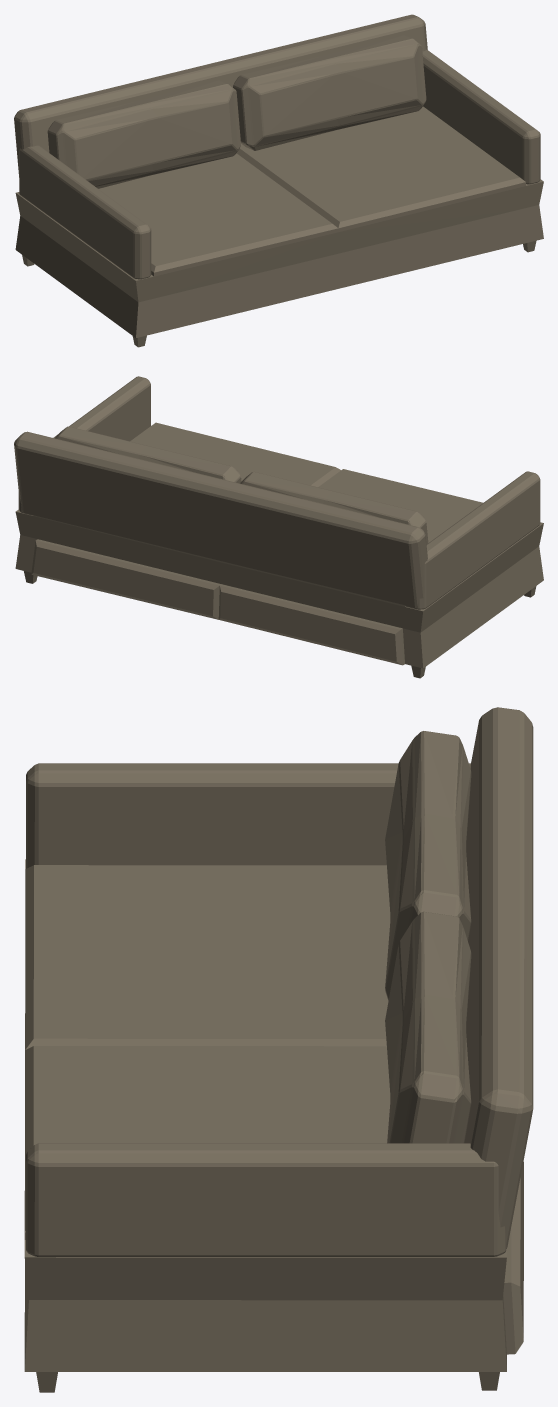
File: Couch.fbx
3 renders of one model, top to bottom at view 1: azimuth 30°, elevation 25°; view 2: azimuth 150°, elevation 25°; view 3: azimuth 270°, elevation 25°, orthographic. The views are drawn at different scales.
Parts seen in each view (by area): view 1: pasted__pCube3; view 2: pasted__pCube3; view 3: pasted__pCube3.
Boxes of the visible parts, box(x1,y1,x2,y2) form: pasted__pCube3: box(14, 14, 543, 347); pasted__pCube3: box(14, 376, 543, 678); pasted__pCube3: box(24, 707, 533, 1392).
Size of the model in its own units: 12.63 by 4.45 by 6.82.
